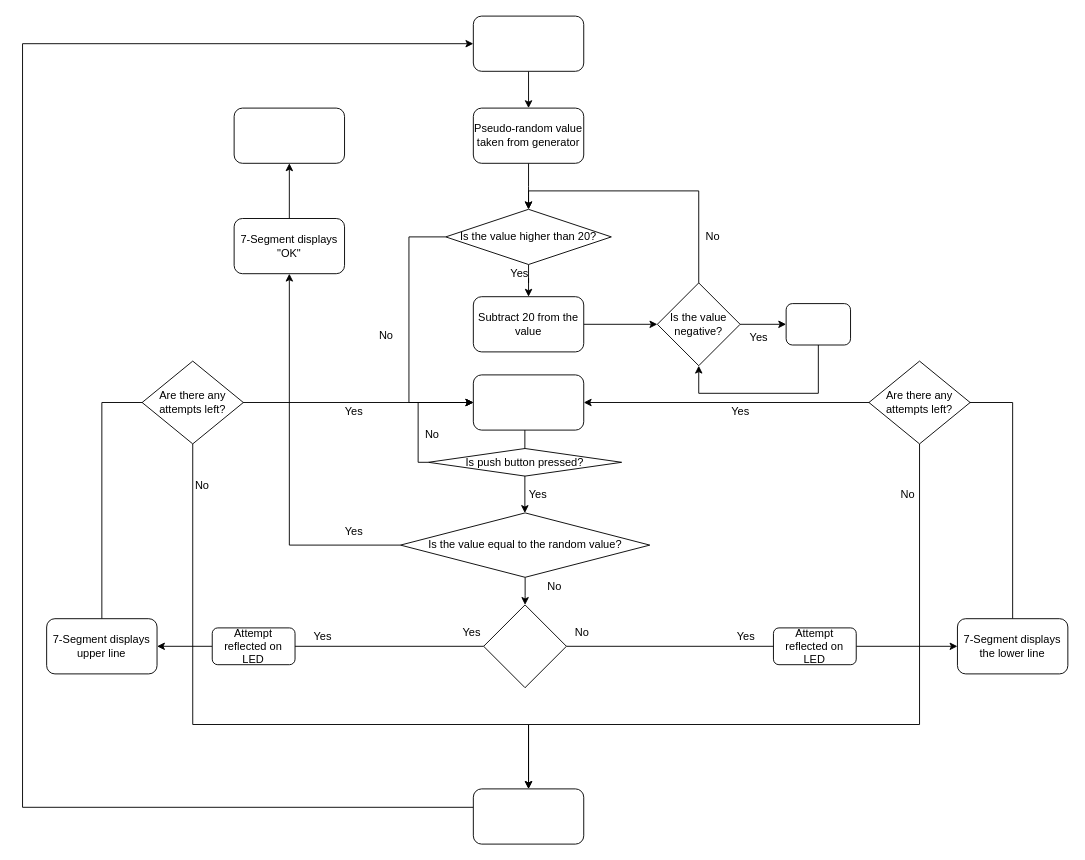
Some shapes in this 1085 by 860 pixel diagram are drawn without their labels. The centre of each missing label's shape, as x and y in pixels:
7-Segment displays "X": point 528,816
Add 1: point 818,324
All LEDs light up and 7 segment displays "O": point 289,135
Delay period where number guess value is taken from switches: point 528,402
Is guessed value lower?: point 524,646
User attempts get reset all LEDs shut: point 528,43
